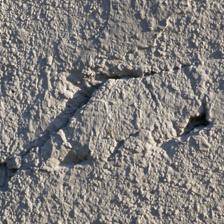Crack: (11, 29, 207, 129)
